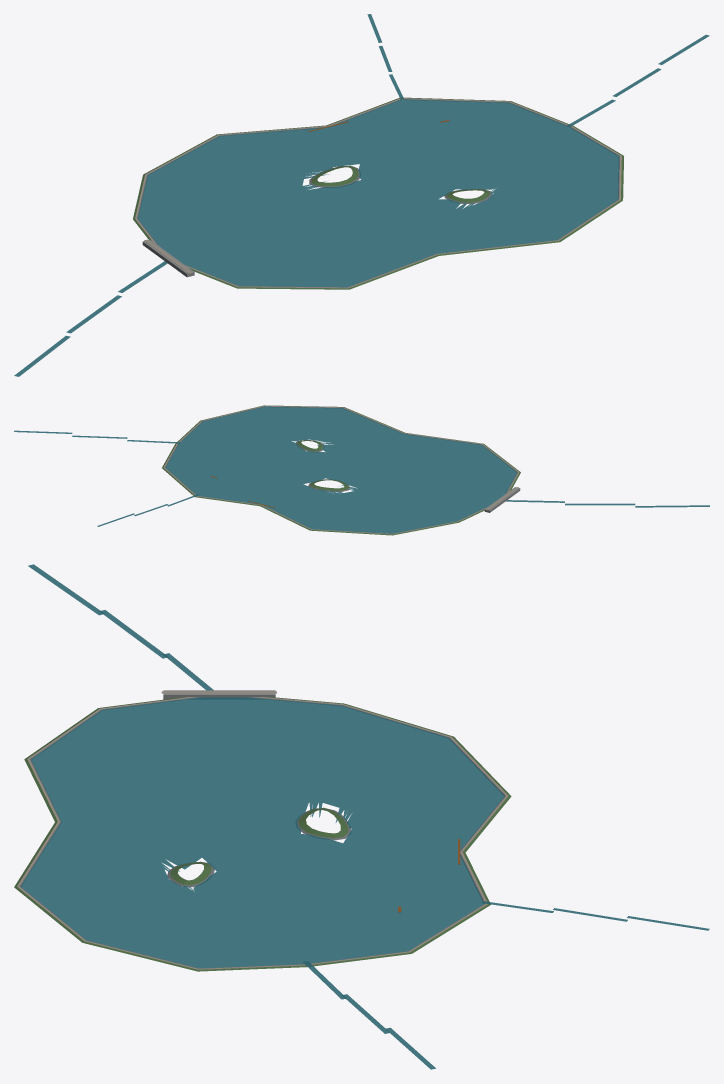
File: water_ho_dap_ta_nung_me_linh.glb
The picture shows the model from 3 angles, top to bottom: view 1: azimuth 30°, elevation 25°; view 2: azimuth 150°, elevation 25°; view 3: azimuth 270°, elevation 25°; orthographic projection. The views are drawn at different scales.
Parts seen in each view (by area): view 1: water_surface_water_ho_dap_ta_nung_me_linh, shoreline_terrain_transition_verge_water_ho_dap_ta_nung_me_l, lakeside_promenade_walkway_water_ho_dap_ta_nung_me_linh, embankment_stone_coping_water_ho_dap_ta_nung_me_linh, headwater_terraces_stream_ta_nung_west_outflow_to_nam_ban, headwater_terraces_stream_deo_ta_nung_east_inflow; view 2: water_surface_water_ho_dap_ta_nung_me_linh, shoreline_terrain_transition_verge_water_ho_dap_ta_nung_me_l, lakeside_promenade_walkway_water_ho_dap_ta_nung_me_linh, embankment_stone_coping_water_ho_dap_ta_nung_me_linh, headwater_terraces_stream_ta_nung_west_outflow_to_nam_ban, headwater_terraces_stream_deo_ta_nung_east_inflow, embankment_stone_slope_water_ho_dap_ta_nung_me_linh; view 3: water_surface_water_ho_dap_ta_nung_me_linh, shoreline_terrain_transition_verge_water_ho_dap_ta_nung_me_l, lakeside_promenade_walkway_water_ho_dap_ta_nung_me_linh, embankment_stone_coping_water_ho_dap_ta_nung_me_linh, headwater_terraces_stream_ta_nung_west_outflow_to_nam_ban, headwater_terraces_stream_deo_ta_nung_east_inflow.
Part boxes in pixels (x1,y1,x2,y2): water_surface_water_ho_dap_ta_nung_me_linh: (137, 99, 619, 287); shoreline_terrain_transition_verge_water_ho_dap_ta_nung_me_l: (133, 97, 623, 289); lakeside_promenade_walkway_water_ho_dap_ta_nung_me_linh: (135, 98, 621, 288); embankment_stone_coping_water_ho_dap_ta_nung_me_linh: (137, 99, 619, 287); headwater_terraces_stream_ta_nung_west_outflow_to_nam_ban: (14, 261, 167, 376); headwater_terraces_stream_deo_ta_nung_east_inflow: (567, 34, 709, 126); water_surface_water_ho_dap_ta_nung_me_linh: (165, 406, 517, 533); shoreline_terrain_transition_verge_water_ho_dap_ta_nung_me_l: (162, 405, 520, 535); lakeside_promenade_walkway_water_ho_dap_ta_nung_me_linh: (163, 405, 519, 534); embankment_stone_coping_water_ho_dap_ta_nung_me_linh: (165, 406, 517, 533); headwater_terraces_stream_ta_nung_west_outflow_to_nam_ban: (505, 500, 709, 507); headwater_terraces_stream_deo_ta_nung_east_inflow: (14, 430, 179, 443); embankment_stone_slope_water_ho_dap_ta_nung_me_linh: (165, 406, 517, 490); water_surface_water_ho_dap_ta_nung_me_linh: (20, 697, 504, 968); shoreline_terrain_transition_verge_water_ho_dap_ta_nung_me_l: (14, 697, 511, 971); lakeside_promenade_walkway_water_ho_dap_ta_nung_me_linh: (17, 697, 508, 969); embankment_stone_coping_water_ho_dap_ta_nung_me_linh: (19, 697, 505, 968); headwater_terraces_stream_ta_nung_west_outflow_to_nam_ban: (28, 564, 213, 690); headwater_terraces_stream_deo_ta_nung_east_inflow: (303, 961, 435, 1069).
Bounding box in the file's own units: 2446 × 47.5 × 1364.
